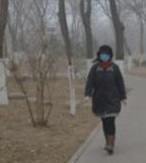person: (83, 44, 128, 155)
